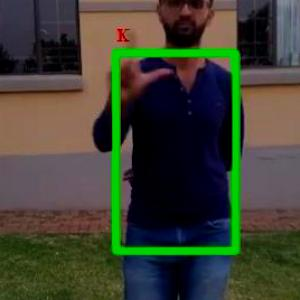land_hand: (100, 21, 174, 102)
